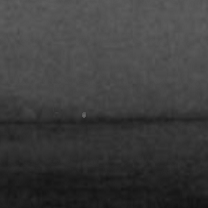Target: (81, 111, 87, 118)
